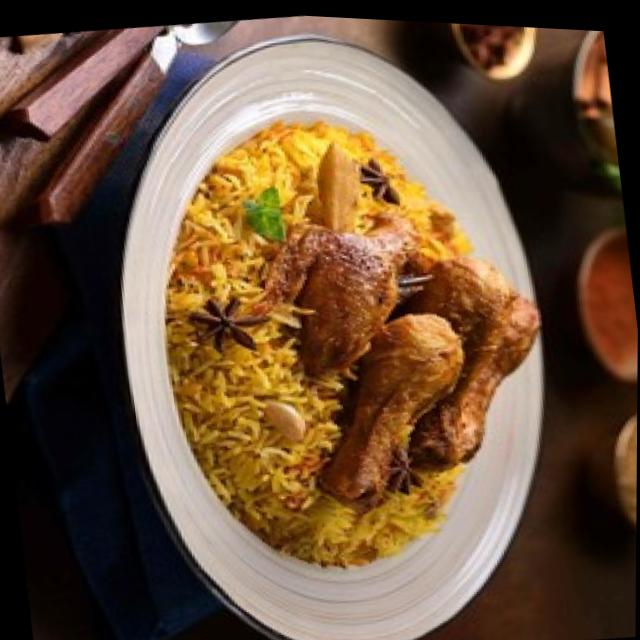BIRIYANI: (166, 122, 538, 566)
